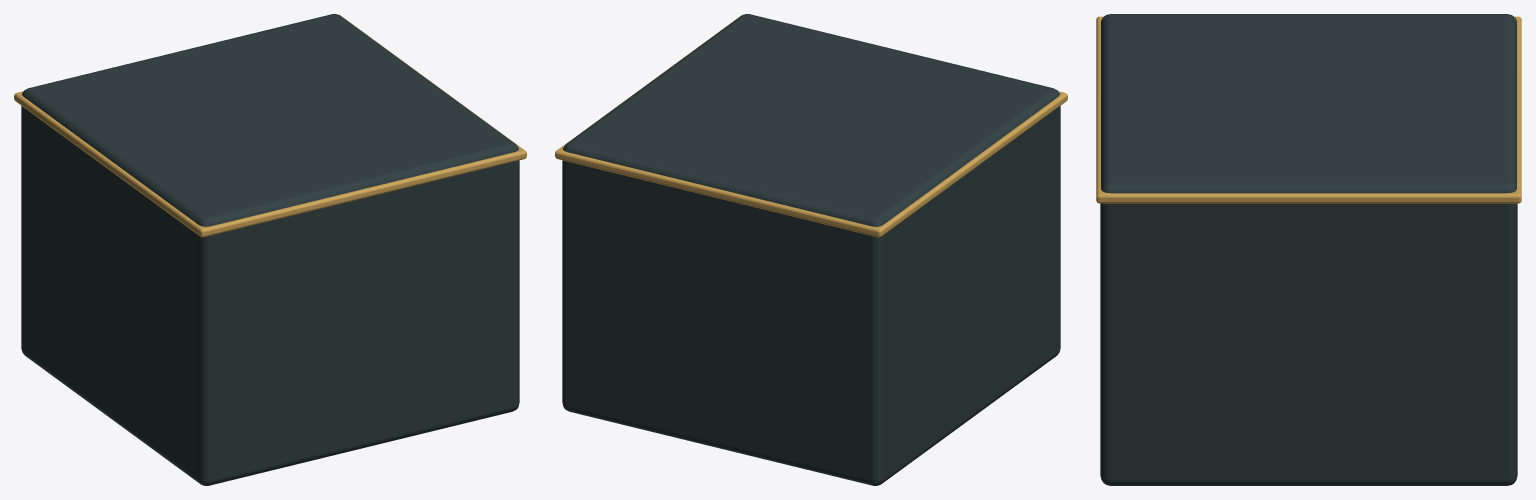
File: pedestal.glb
3 renders of one model, left to right at view 1: azimuth 30°, elevation 25°; view 2: azimuth 150°, elevation 25°; view 3: azimuth 270°, elevation 25°, orthographic. The views are drawn at different scales.
Parts seen in each view (by area): view 1: pedestal; view 2: pedestal; view 3: pedestal.
Boxes of the visible parts, bbox=[...] form: pedestal: bbox=[14, 14, 526, 485]; pedestal: bbox=[555, 14, 1067, 485]; pedestal: bbox=[1096, 14, 1521, 485].
Bounding box in the file's own units: 1.02 × 0.8 × 1.02.
